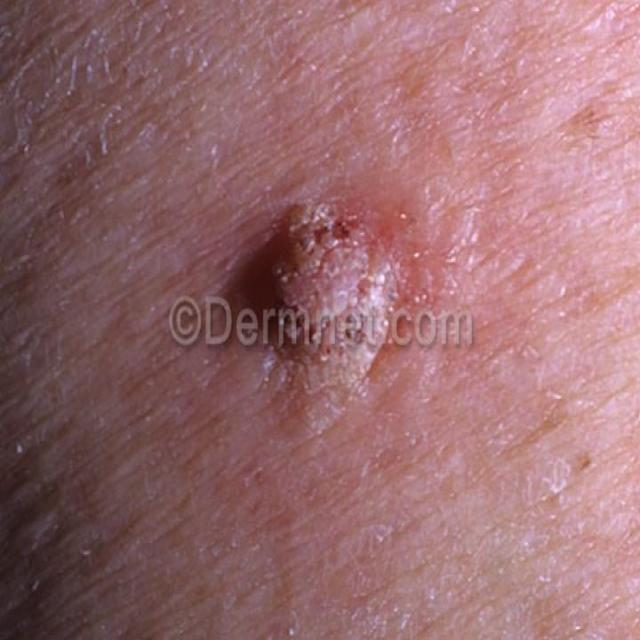Eczema: (262, 201, 398, 371)
